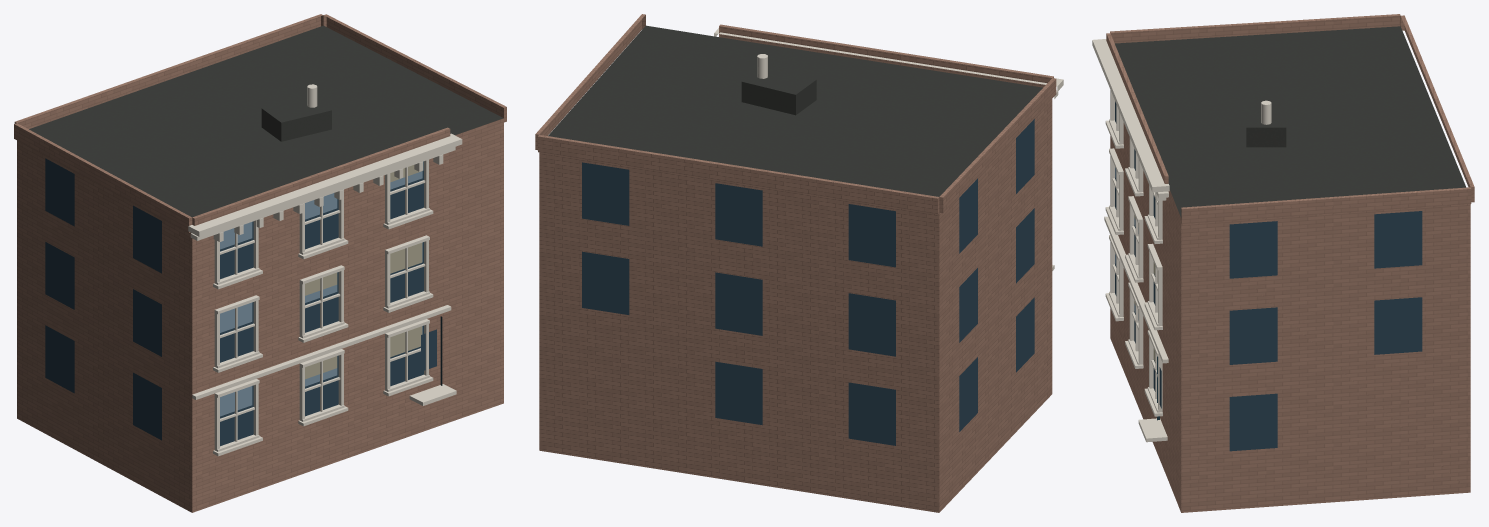
3 views of the same model, side by side, from view 1: azimuth 30°, elevation 25°; view 2: azimuth 150°, elevation 25°; view 3: azimuth 270°, elevation 25° (orthographic). The views are drawn at different scales.
Parts seen in each view (by area): view 1: Footprint 0 / surface 2, Footprint 0 / surface 1, Cornices and window frames, Inset glazing, Facade bay volumes, Sky reflection panels, Interior blind variation, Inferred rooftop service enclosure / surface 5, Inferred rooftop service enclosure / surface 3; view 2: Footprint 0 / surface 2, Footprint 0 / surface 1, Inset glazing, Facade bay volumes, Inferred rooftop service enclosure / surface 6, Inferred rooftop service enclosure / surface 3, Cornices and window frames; view 3: Footprint 0 / surface 2, Footprint 0 / surface 1, Inset glazing, Cornices and window frames, Facade bay volumes, Inferred rooftop service enclosure / surface 1, Inferred rooftop service enclosure / surface 3.
Part boxes in pixels (box(x1,y1,x2,y2)): Footprint 0 / surface 2: box(17, 118, 503, 512); Footprint 0 / surface 1: box(29, 25, 503, 217); Cornices and window frames: box(188, 133, 462, 456); Inset glazing: box(45, 158, 436, 446); Facade bay volumes: box(14, 14, 506, 232); Sky reflection panels: box(220, 171, 422, 416); Interior blind variation: box(305, 165, 422, 379); Inferred rooftop service enclosure / surface 5: box(281, 110, 331, 141); Inferred rooftop service enclosure / surface 3: box(262, 97, 331, 122); Footprint 0 / surface 2: box(539, 99, 1052, 512); Footprint 0 / surface 1: box(548, 25, 1042, 196); Inset glazing: box(582, 119, 1034, 445); Facade bay volumes: box(535, 14, 1056, 214); Inferred rooftop service enclosure / surface 6: box(741, 82, 795, 115); Inferred rooftop service enclosure / surface 3: box(742, 68, 815, 94); Cornices and window frames: box(714, 28, 1063, 270); Footprint 0 / surface 2: box(1110, 123, 1470, 512); Footprint 0 / surface 1: box(1115, 26, 1466, 217); Inset glazing: box(1115, 101, 1422, 451); Cornices and window frames: box(1092, 39, 1169, 442); Facade bay volumes: box(1106, 14, 1474, 224); Inferred rooftop service enclosure / surface 1: box(1246, 127, 1286, 147); Inferred rooftop service enclosure / surface 3: box(1246, 102, 1286, 127).
Bounding box in the file's own units: 13.77 × 10.99 × 11.39.
